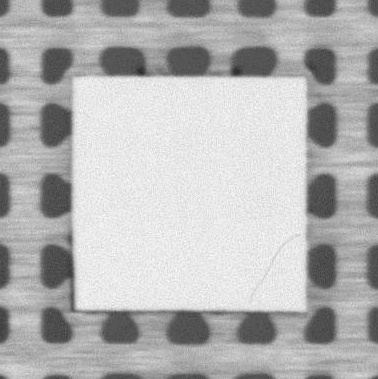DIE_CRACK: (249, 234, 300, 300)
